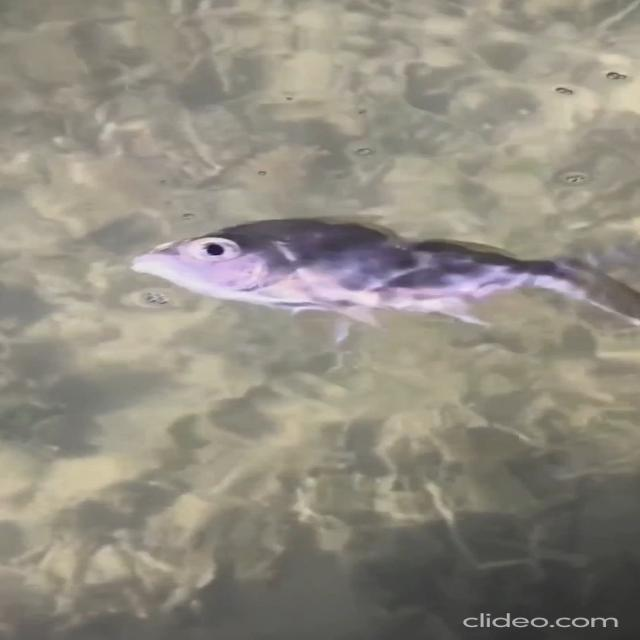fish: (115, 196, 640, 354)
